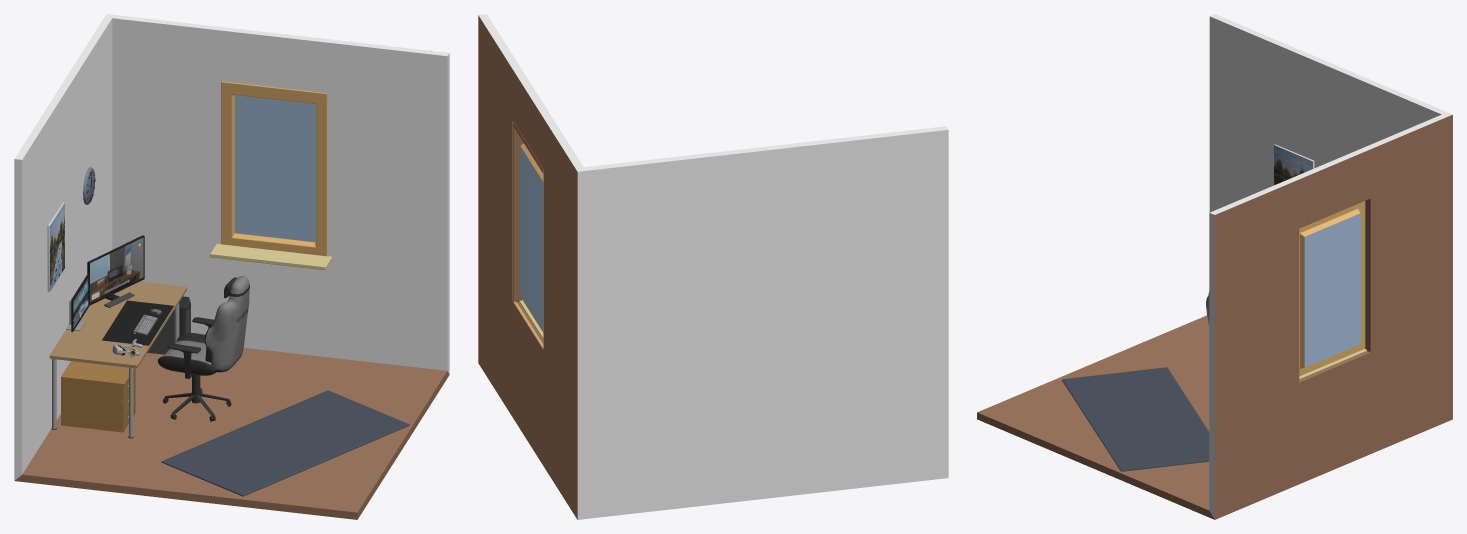
File: room.glb
The picture shows the model from 3 angles, left to right: view 1: azimuth 30°, elevation 25°; view 2: azimuth 150°, elevation 25°; view 3: azimuth 270°, elevation 25°; orthographic projection. The views are drawn at different scales.
Visible parts, largest first — view 1: Env, Floor Mat, Window, Window Frame, Chair, Table Top, Drawer, Monitor Right Screen, Table Mat, Painting, PC, Table Leg (+2 smaller); view 2: Env, Window, Window Frame; view 3: Env, Floor Mat, Window, Window Frame, Painting.
Part boxes in pixels (<box>): Env: <box>14,14,449,519</box>; Floor Mat: <box>161,390,409,496</box>; Window: <box>235,95,315,242</box>; Window Frame: <box>210,81,332,270</box>; Chair: <box>157,276,249,421</box>; Table Top: <box>49,281,186,368</box>; Drawer: <box>61,361,135,432</box>; Monitor Right Screen: <box>90,237,143,302</box>; Table Mat: <box>102,300,173,345</box>; Painting: <box>47,201,64,291</box>; PC: <box>147,296,190,354</box>; Table Leg: <box>51,302,179,438</box>; Env: <box>478,14,948,519</box>; Window: <box>520,146,543,330</box>; Window Frame: <box>512,121,543,348</box>; Env: <box>977,14,1452,519</box>; Floor Mat: <box>1062,367,1209,471</box>; Window: <box>1304,213,1360,367</box>; Window Frame: <box>1299,201,1369,381</box>; Painting: <box>1274,144,1314,185</box>.
Size of what is drawn, in the model's own units: 10.44 by 7.38 by 10.44.
Materials: 35 (3 with a texture image).
